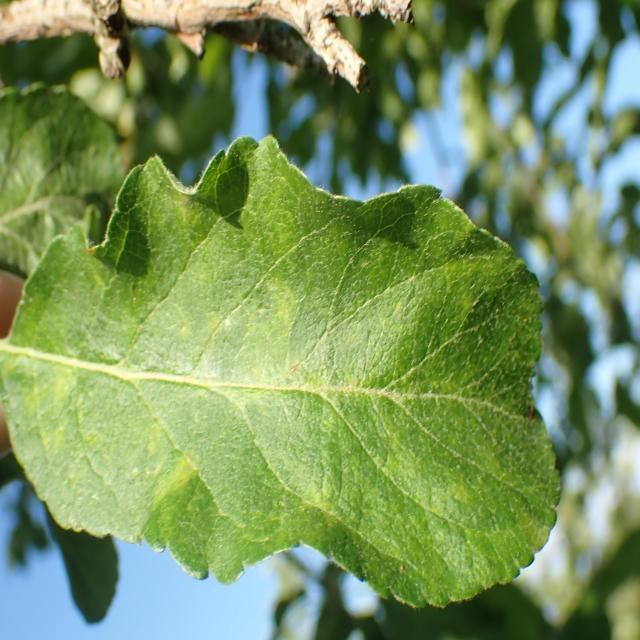scab: (31, 218, 516, 557)
